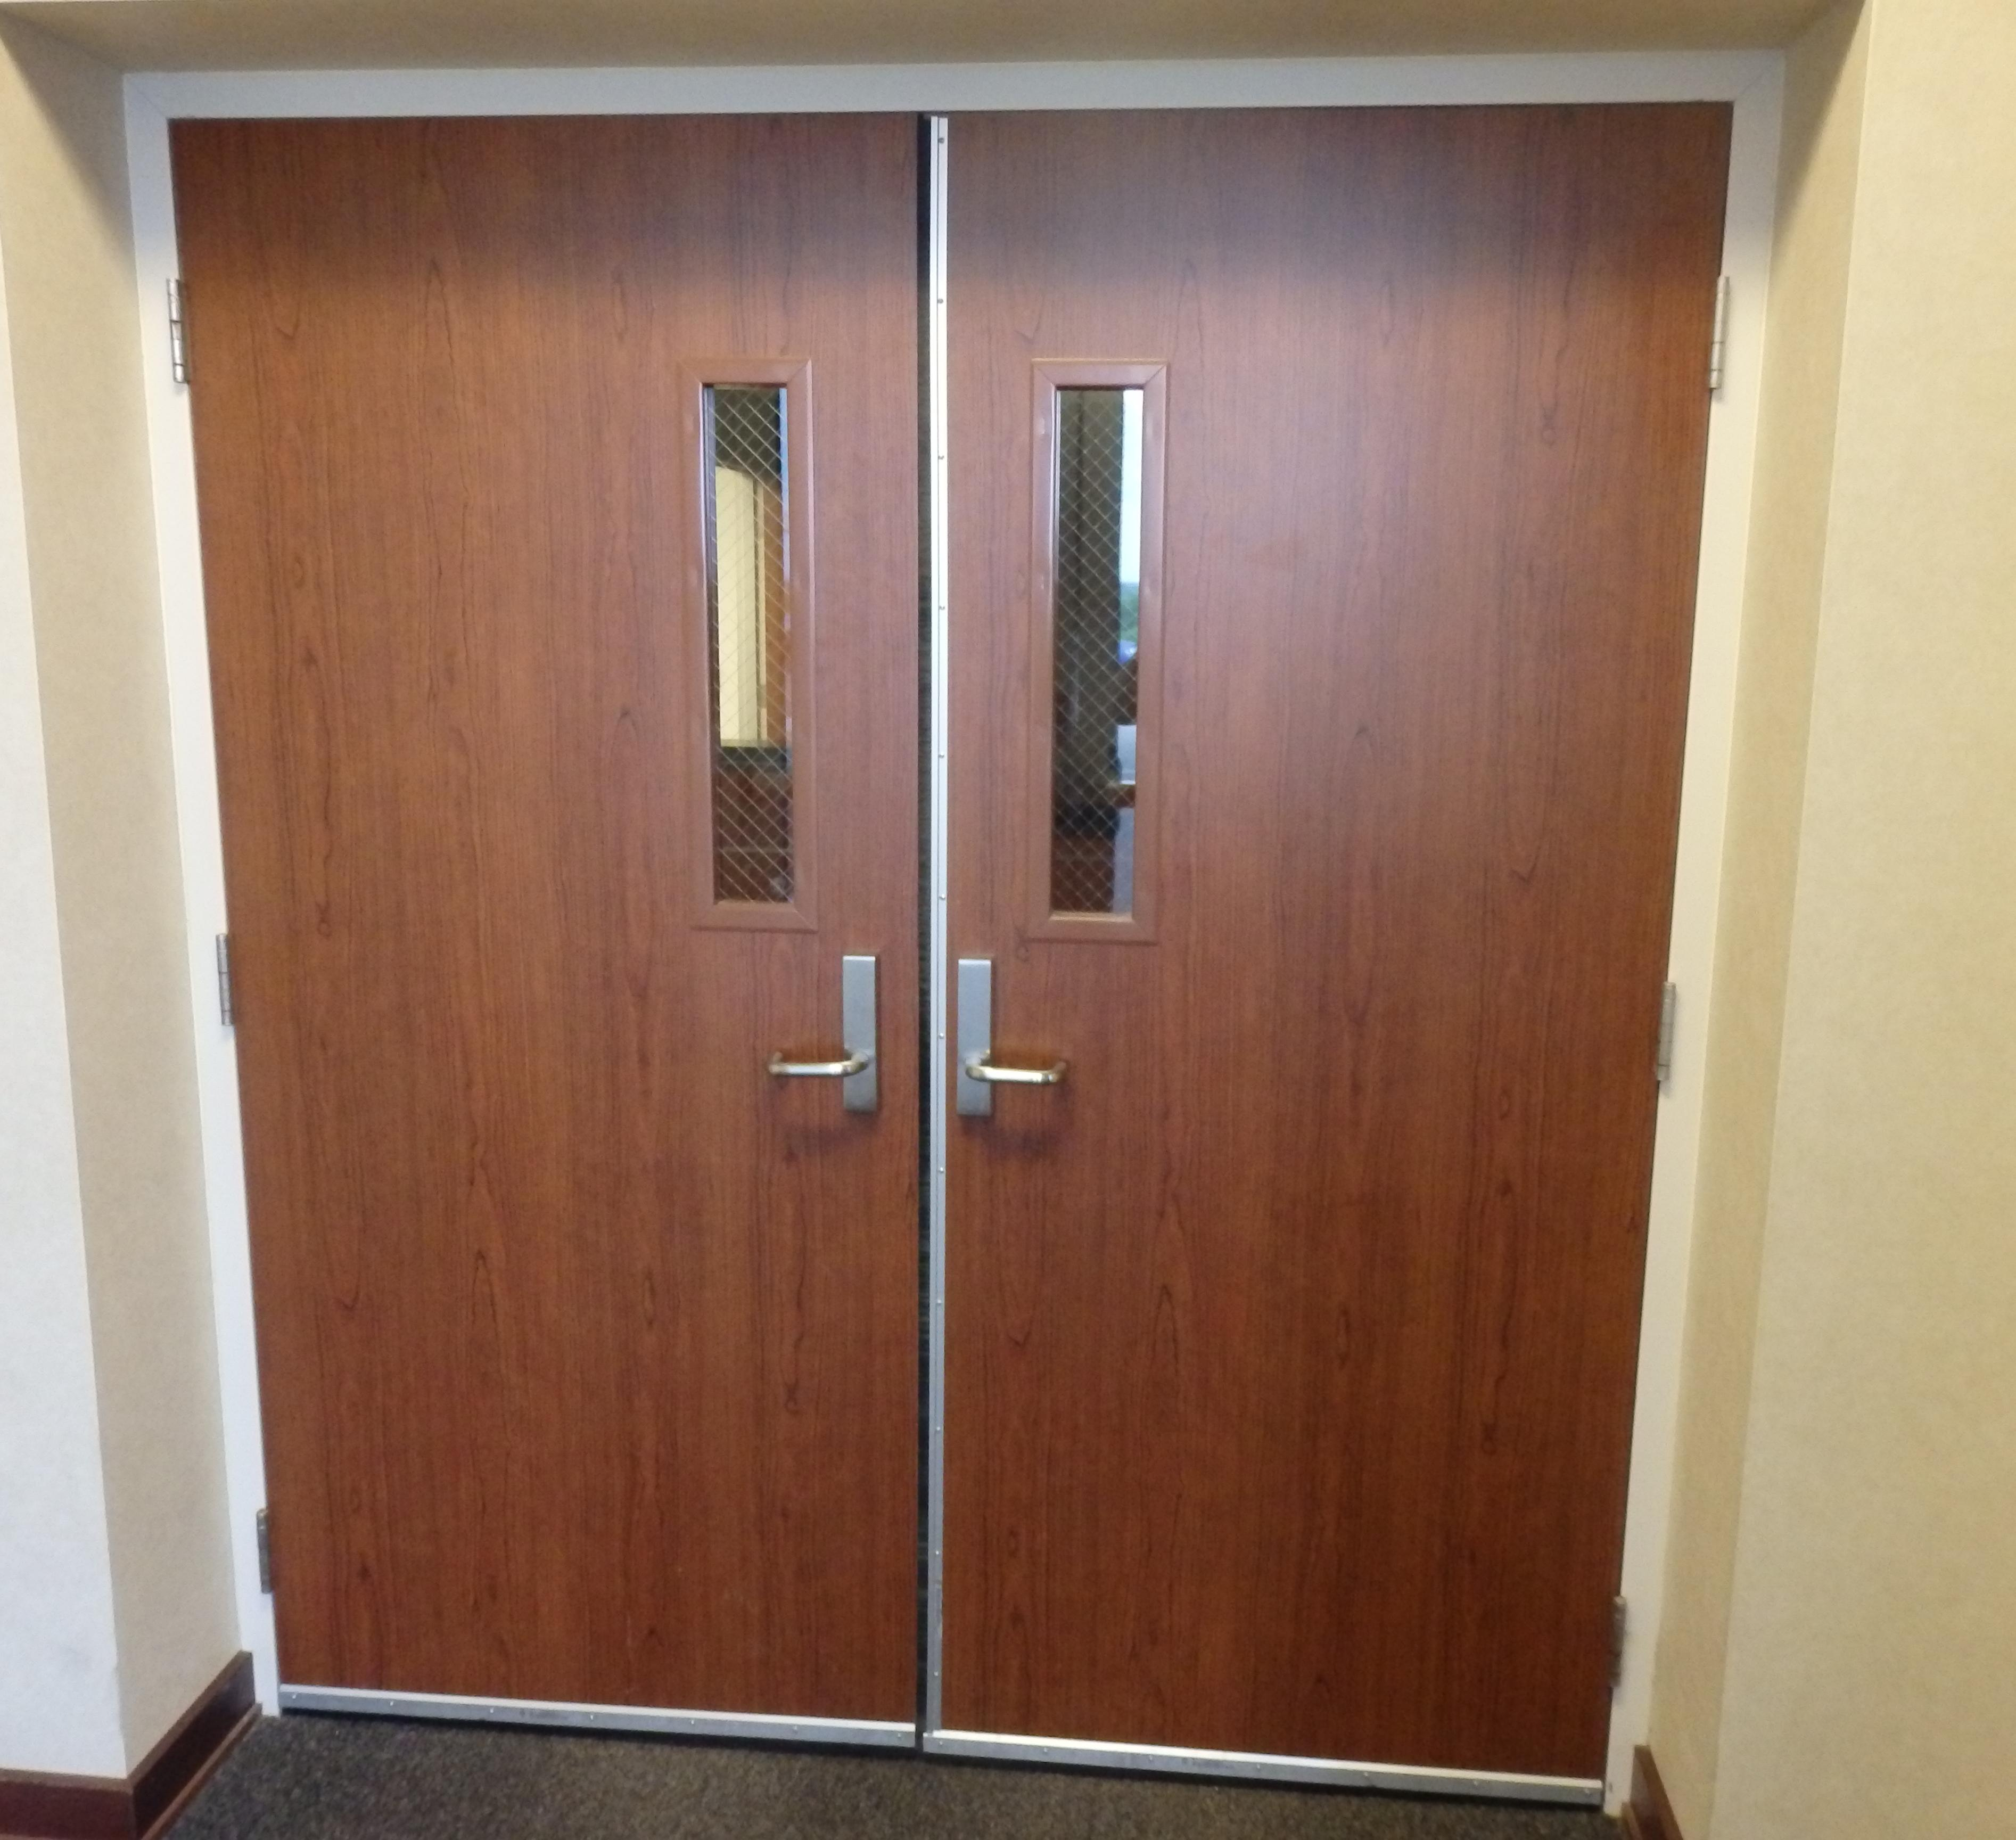door: (155, 81, 1654, 1808)
